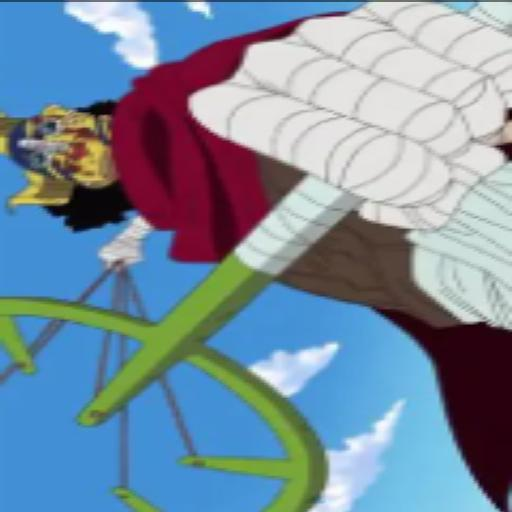Usopp: (0, 0, 512, 365)
